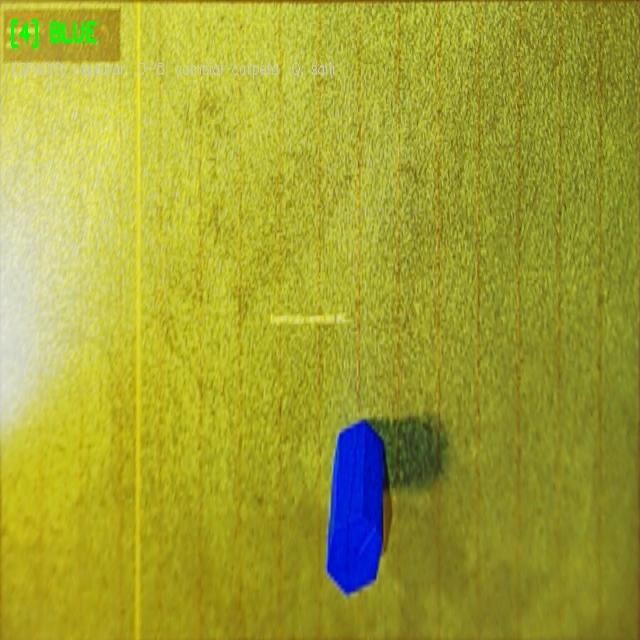blue: (326, 420, 387, 595)
